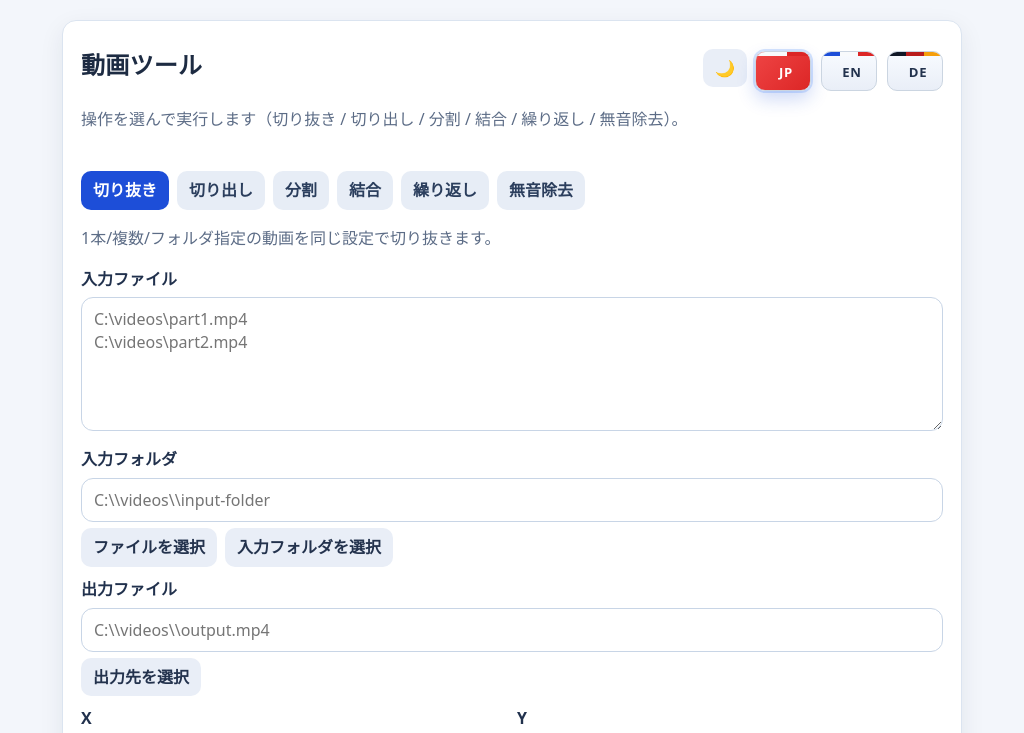
Test: shows flag buttons and can switch to German
Expected: the button with aria-label "日本語" reads "JP", left=755, top=51, right=811, bottom=91
Expected: the button with aria-label "english" reads "EN", left=821, top=51, right=877, bottom=91
Click the button with aria-label "deutsch" at (915, 71), box left=887, top=51, right=943, bottom=91
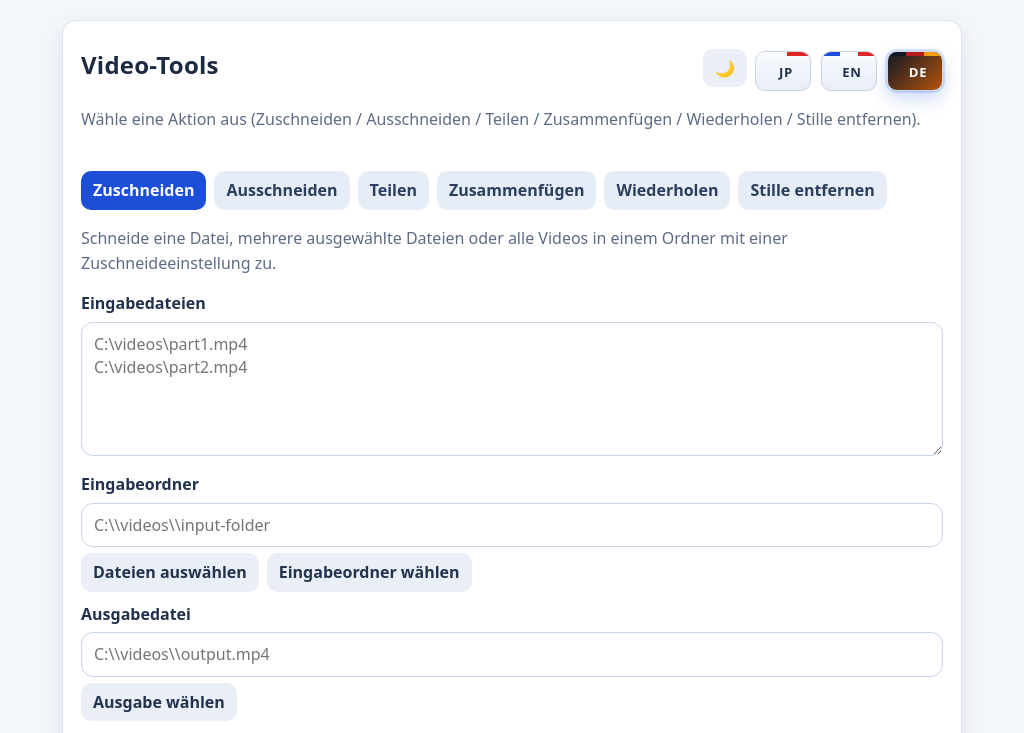
Expected: the text box labelled "Eingabedateien" is shown, left=81, top=322, right=943, bottom=456
Result: the heading "Video-Tools" is shown at left=81, top=50, right=219, bottom=80
